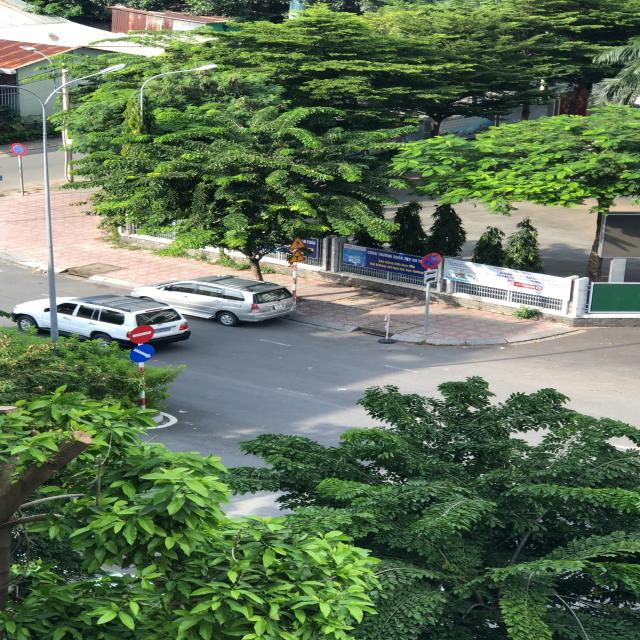Bien bao cam di nguoc chieu: (127, 324, 158, 344)
Bien bao duong giao nhau: (286, 249, 308, 264)
Bien bao duong nguoi di bo cat ngang: (286, 237, 307, 249)
Bien bao huong phai di vong chuong ngai vat: (127, 344, 160, 365)
